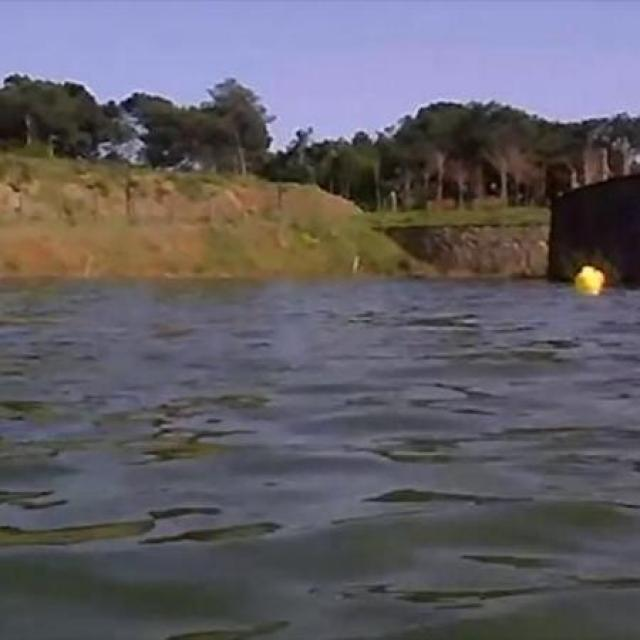buoy: (574, 265, 602, 294)
